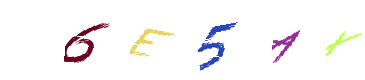5: (175, 0, 255, 80)
6: (42, 0, 122, 80)
A: (181, 0, 261, 80)
E: (142, 0, 222, 80)
X: (182, 0, 262, 80)
